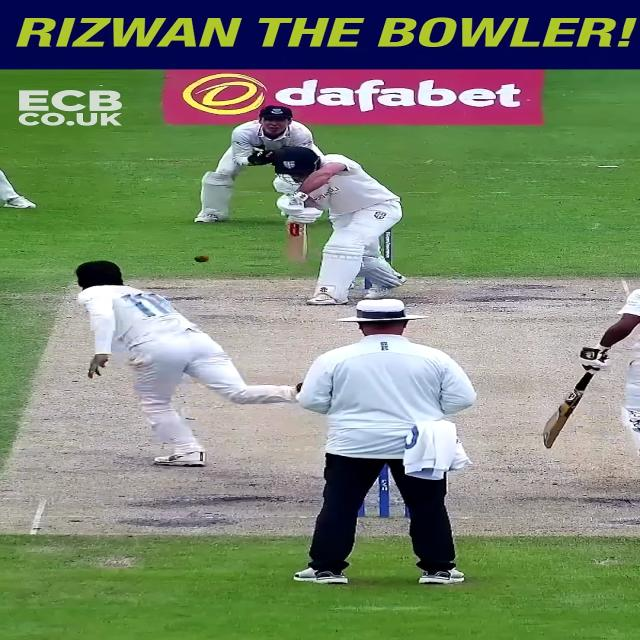cricketBall: (195, 255, 209, 263)
